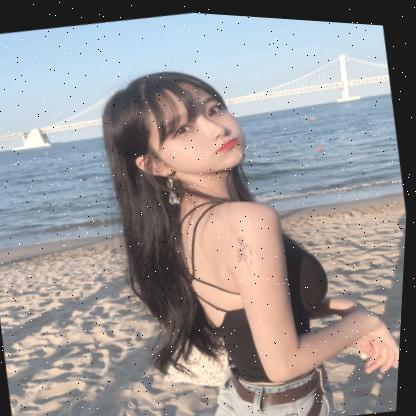person: (98, 51, 261, 211)
